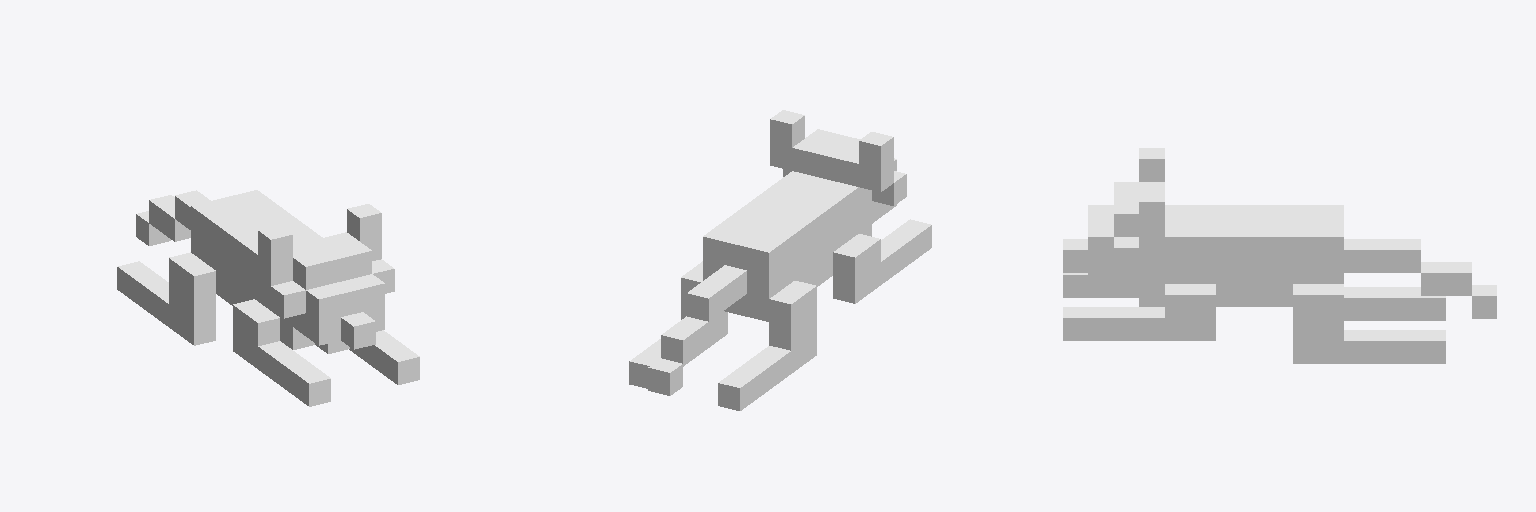
File: rat_run_2.obj
3 views of the same model, side by side, from view 1: azimuth 30°, elevation 25°; view 2: azimuth 150°, elevation 25°; view 3: azimuth 270°, elevation 25° (orthographic).
Parts seen in each view (by area): view 1: object 1; view 2: object 1; view 3: object 1.
Part boxes in pixels (left/top/right/bottom): object 1: left=117, top=190, right=419, bottom=406; object 1: left=629, top=110, right=931, bottom=410; object 1: left=1063, top=148, right=1496, bottom=363.
Size of the model in its own units: 0.5 by 0.7 by 1.7.